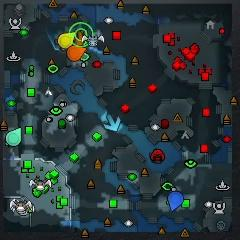p1: (168, 191, 183, 211)
p2: (6, 128, 22, 146)
p4: (58, 32, 76, 48)
p5: (67, 45, 87, 62)
x3: (104, 115, 120, 131)
x5: (74, 31, 85, 47)
